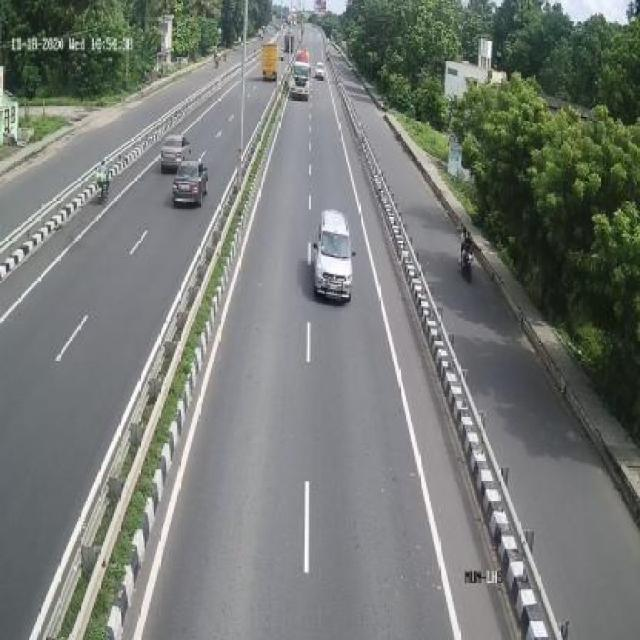car: (312, 204, 356, 304), (174, 157, 212, 209), (158, 129, 191, 168)
